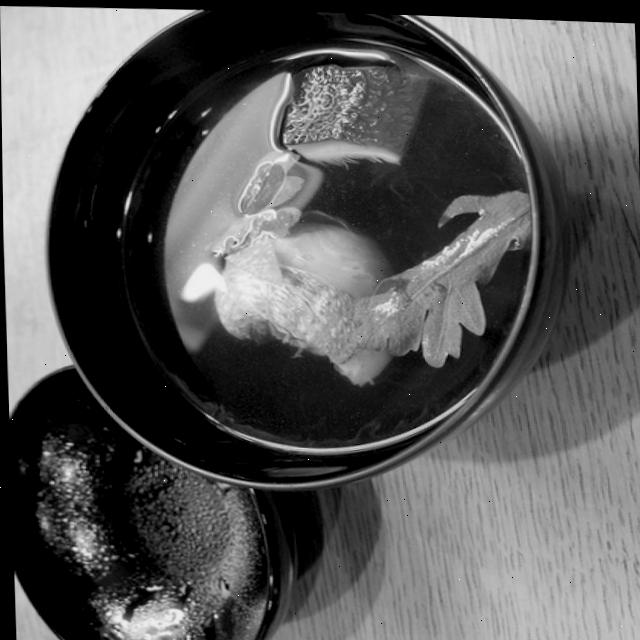汤锅炖物: (45, 4, 581, 496)
